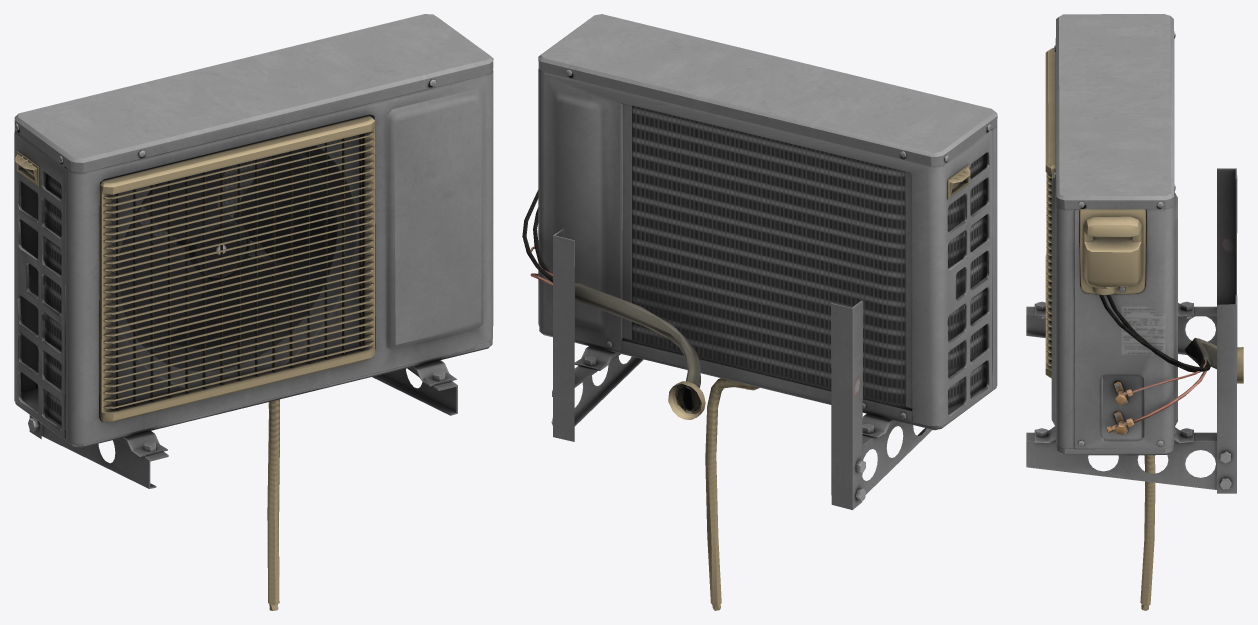
The model's file is exterior_aircon_unit_lod1.fbx.
3 renders of one model, left to right at view 1: azimuth 30°, elevation 25°; view 2: azimuth 150°, elevation 25°; view 3: azimuth 270°, elevation 25°, orthographic. The views are drawn at different scales.
Visible parts, largest first — view 1: lod1; view 2: lod1; view 3: lod1.
Part boxes in pixels (left/top/right/bottom): lod1: left=14, top=14, right=493, bottom=610; lod1: left=522, top=14, right=997, bottom=610; lod1: left=1026, top=14, right=1243, bottom=610.
Bounding box in the file's own units: 31.49 × 14.73 × 36.54.
